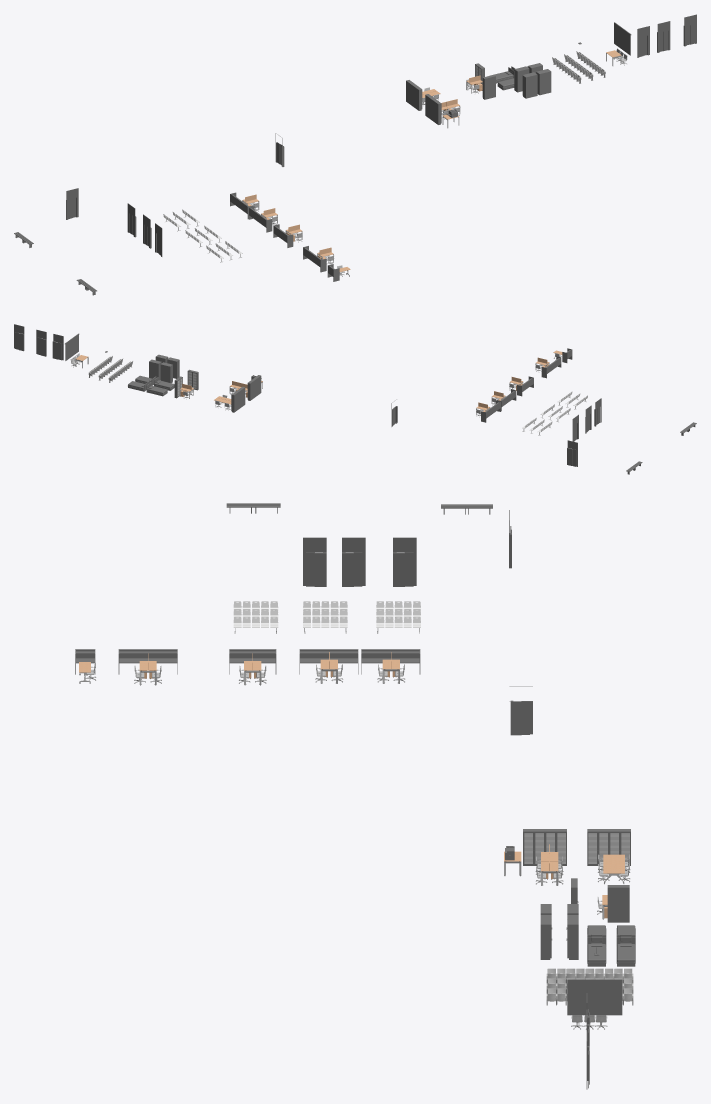
The model's file is F2_jiaju.glb.
3 views of the same model, one above another, from view 1: azimuth 30°, elevation 25°; view 2: azimuth 150°, elevation 25°; view 3: azimuth 270°, elevation 25° (orthographic). The views are drawn at different scales.
Visible parts, largest first — view 1: no part large enough to name; view 2: 1300 [1301292], 1300 [1289434], 1300 [1300732], 1300 [1561026], 投影屏幕-基于天花板 3D [1346162]; view 3: 投影屏幕-基于天花板 3D [1346162], 1300 [1346922], 1300 [1347153], 1300 [1347394], 剧院座椅 1 [1341232], 带书架阅览桌-单边 [1389970].
Part boxes in pixels (x1,y1,x2,y2): 1300 [1301292]: [52, 334, 63, 360]; 1300 [1289434]: [14, 324, 24, 351]; 1300 [1300732]: [36, 329, 46, 356]; 1300 [1561026]: [567, 440, 577, 466]; 投影屏幕-基于天花板 3D [1346162]: [65, 333, 79, 360]; 投影屏幕-基于天花板 3D [1346162]: [567, 979, 622, 1015]; 1300 [1346922]: [393, 537, 416, 586]; 1300 [1347153]: [342, 537, 365, 586]; 1300 [1347394]: [303, 537, 326, 586]; 剧院座椅 1 [1341232]: [546, 968, 633, 983]; 带书架阅览桌-单边 [1389970]: [118, 649, 177, 674].
Size of the model in its own units: 74.77 by 3.1 by 30.58.
Materials: 8 (3 with a texture image).
